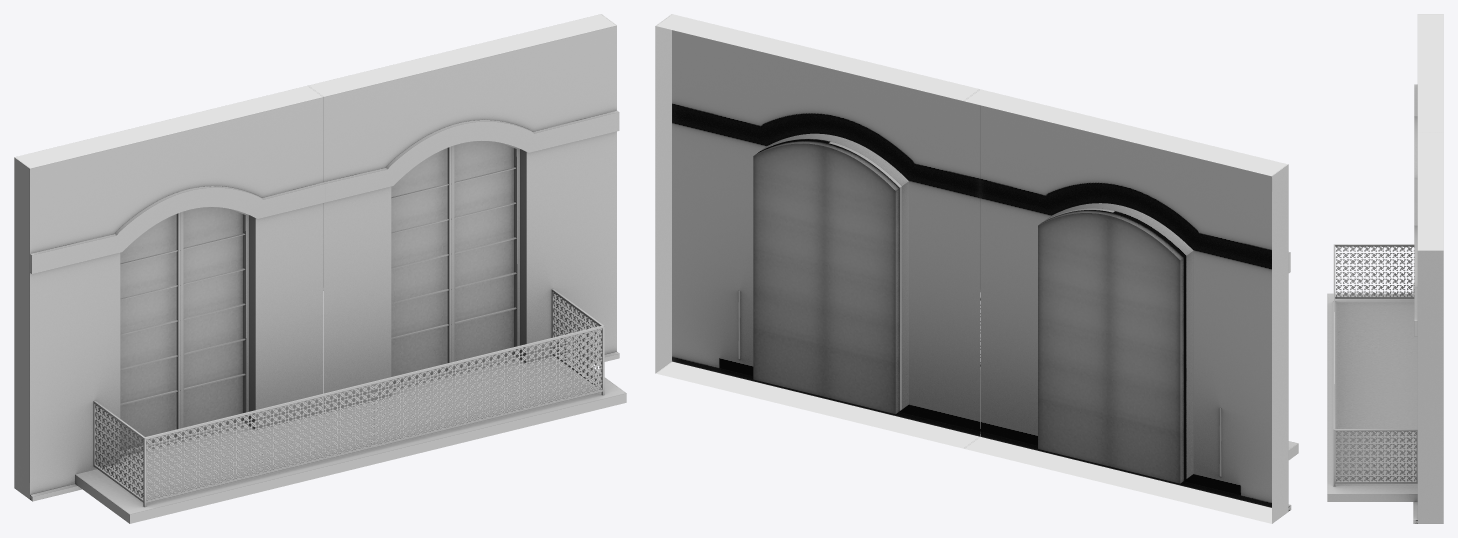
The model's file is floorsecond_4.glb.
3 views of the same model, side by side, from view 1: azimuth 30°, elevation 25°; view 2: azimuth 150°, elevation 25°; view 3: azimuth 270°, elevation 25° (orthographic). The views are drawn at different scales.
Visible parts, largest first — view 1: floorsecond_4; view 2: floorsecond_4; view 3: floorsecond_4.
Boxes of the visible parts, <box> form: floorsecond_4: <box>14,14,626,523</box>; floorsecond_4: <box>655,14,1298,523</box>; floorsecond_4: <box>1327,14,1443,523</box>.
Size of the model in its own units: 6.5 by 3.5 by 1.35.
Materials: 1 (1 with a texture image).
